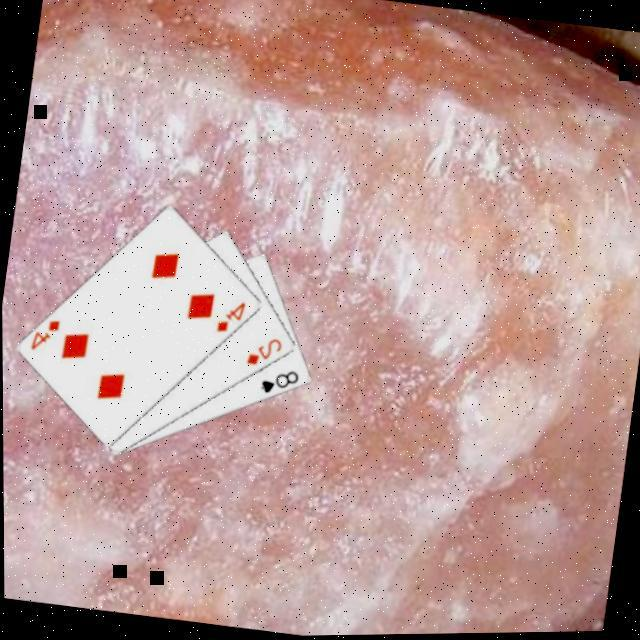2D: (240, 330, 284, 372)
4D: (24, 312, 62, 354), (210, 295, 247, 338)
8S: (253, 363, 300, 401)
